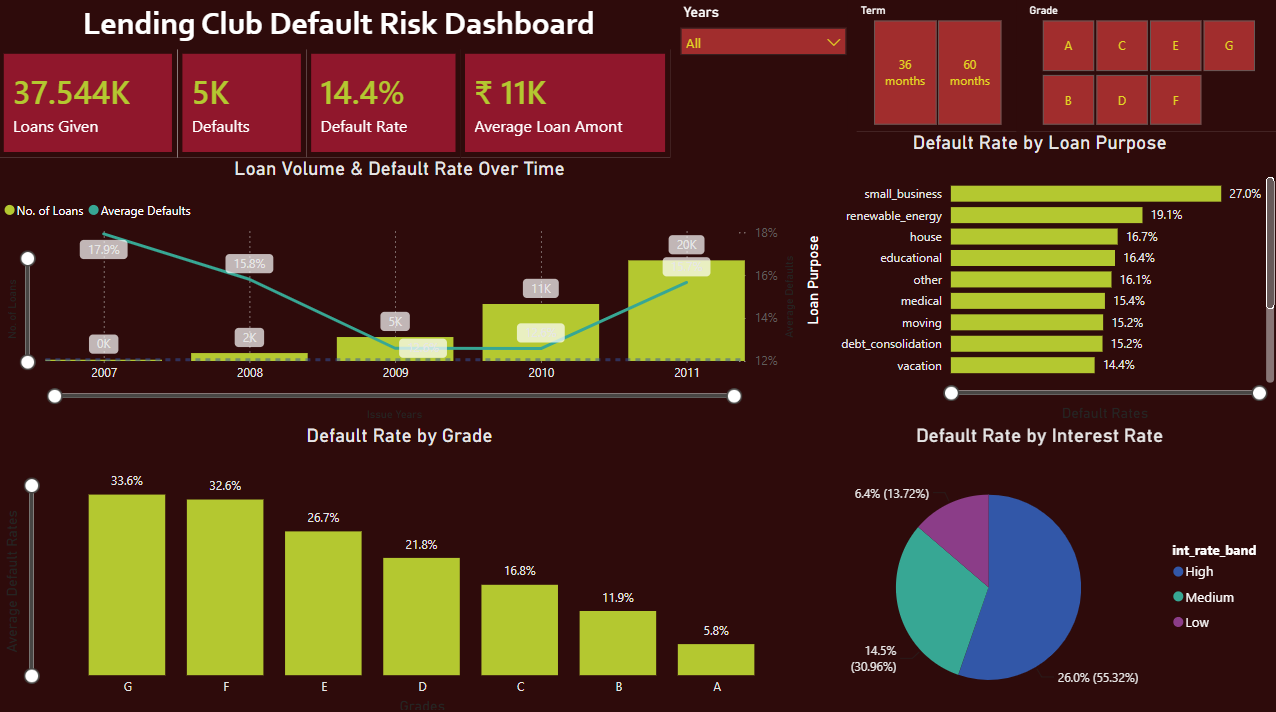

This screenshot's page, from the dashboard's own definition file:
{"tool":"powerbi","page":{"name":"Page 1","canvas":[1280,720],"ordinal":0},"visuals":[{"type":"textbox","box":[0,0,680,50],"z":0},{"type":"cardVisual","fields":{"Data":["CountNonNull(lending_club_cleaned.id)"]},"box":[0,50,178.6,108.6],"z":1000},{"type":"cardVisual","fields":{"Data":["Sum(lending_club_cleaned.default_flag)"]},"box":[178.6,50,128.6,108.6],"z":2000},{"type":"cardVisual","fields":{"Data":["Avg(lending_club_cleaned.default_flag)"]},"box":[307.1,50,154.3,108.6],"z":3000},{"type":"cardVisual","fields":{"Data":["Avg(lending_club_cleaned.loan_amnt)"]},"box":[461.4,50,210,108.6],"z":4000},{"type":"lineClusteredColumnComboChart","title":"Loan Volume & Default Rate Over Time","fields":{"Category":["lending_club_cleaned.issue_year"],"Y":["CountNonNull(lending_club_cleaned.id)"],"Y2":["Avg(lending_club_cleaned.default_flag)"]},"box":[0,158.8,801.2,266.2],"z":5000},{"type":"clusteredColumnChart","title":"Default Rate by Grade","fields":{"Category":["lending_club_cleaned.grade"],"Y":["Avg(lending_club_cleaned.default_flag)"]},"box":[0,425,801.2,295],"z":6000},{"type":"clusteredBarChart","title":"Default Rate by Loan Purpose","fields":{"Category":["lending_club_cleaned.purpose"],"Y":["Avg(lending_club_cleaned.default_flag)"]},"box":[801.2,132.6,479.1,293.4],"z":7000},{"type":"pieChart","title":"Default Rate by Interest Rate","fields":{"Category":["lending_club_cleaned.int_rate_band"],"Y":["Avg(lending_club_cleaned.default_flag)"]},"box":[801.2,425.6,479,294],"z":8000},{"type":"slicer","fields":{"Values":["lending_club_cleaned.issue_year"]},"box":[671.2,0,186.2,167.5],"z":9000},{"type":"slicer","fields":{"Values":["lending_club_cleaned.term"]},"box":[848.8,0,177.5,132.5],"z":10000},{"type":"slicer","fields":{"Values":["lending_club_cleaned.grade"]},"box":[1017.5,0,262.5,132.5],"z":11000}]}

Visuals, with their boxes in screenshot pixels (x1, y1, x2, y2), scaled from the page's 1280x720 canvas onto the 1276x712 screenshot:
textbox: [0, 0, 678, 49]
cardVisual - CountNonNull(lending_club_cleaned.id): [0, 49, 178, 157]
cardVisual - Sum(lending_club_cleaned.default_flag): [178, 49, 306, 157]
cardVisual - Avg(lending_club_cleaned.default_flag): [306, 49, 460, 157]
cardVisual - Avg(lending_club_cleaned.loan_amnt): [460, 49, 669, 157]
"Loan Volume & Default Rate Over Time" lineClusteredColumnComboChart: [0, 157, 799, 420]
"Default Rate by Grade" clusteredColumnChart: [0, 420, 799, 711]
"Default Rate by Loan Purpose" clusteredBarChart: [799, 131, 1275, 421]
"Default Rate by Interest Rate" pieChart: [799, 421, 1275, 711]
slicer - lending_club_cleaned.issue_year: [669, 0, 855, 166]
slicer - lending_club_cleaned.term: [846, 0, 1023, 131]
slicer - lending_club_cleaned.grade: [1014, 0, 1275, 131]
